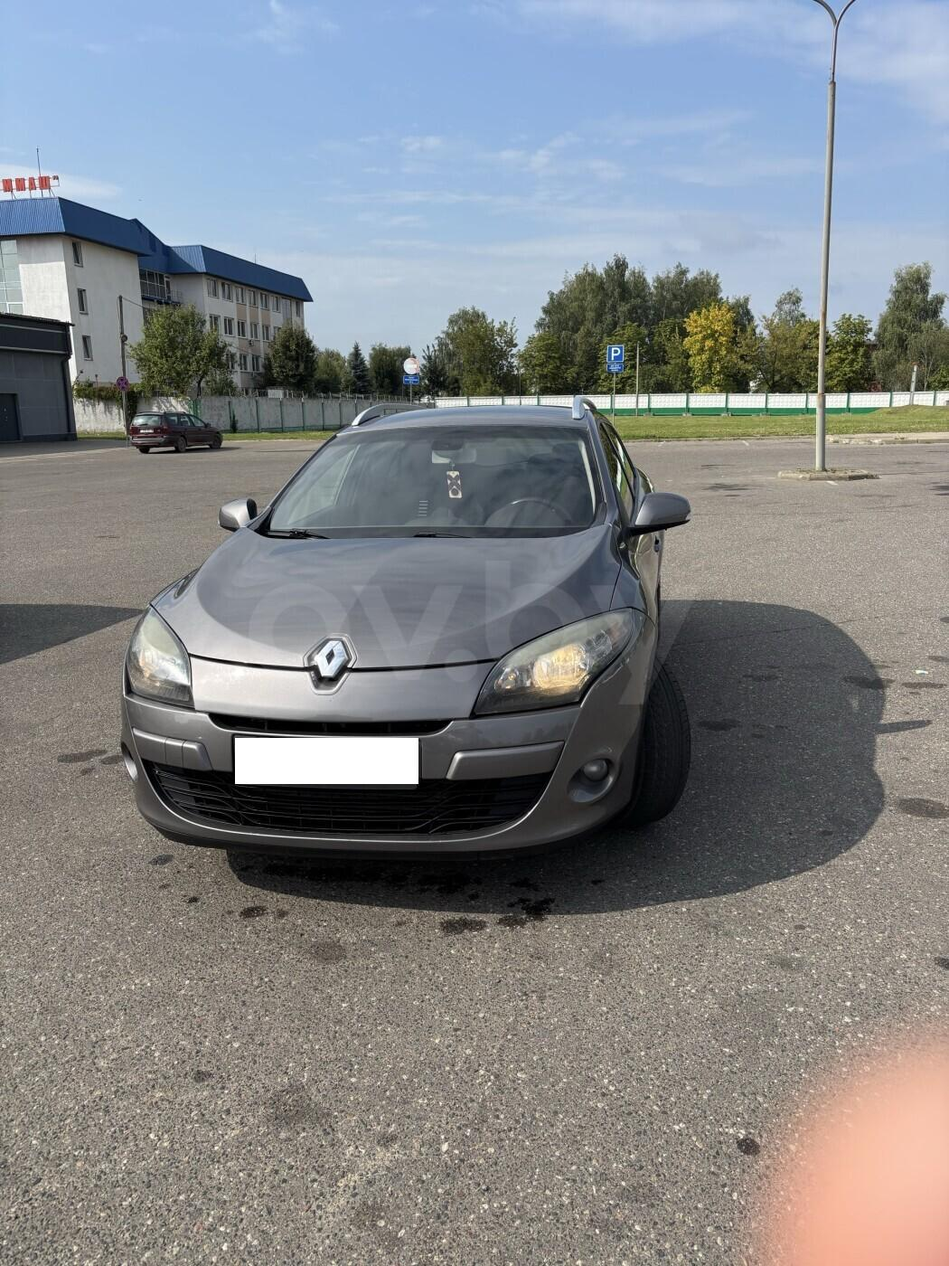Megane_2008-2014: (116, 403, 696, 863)
